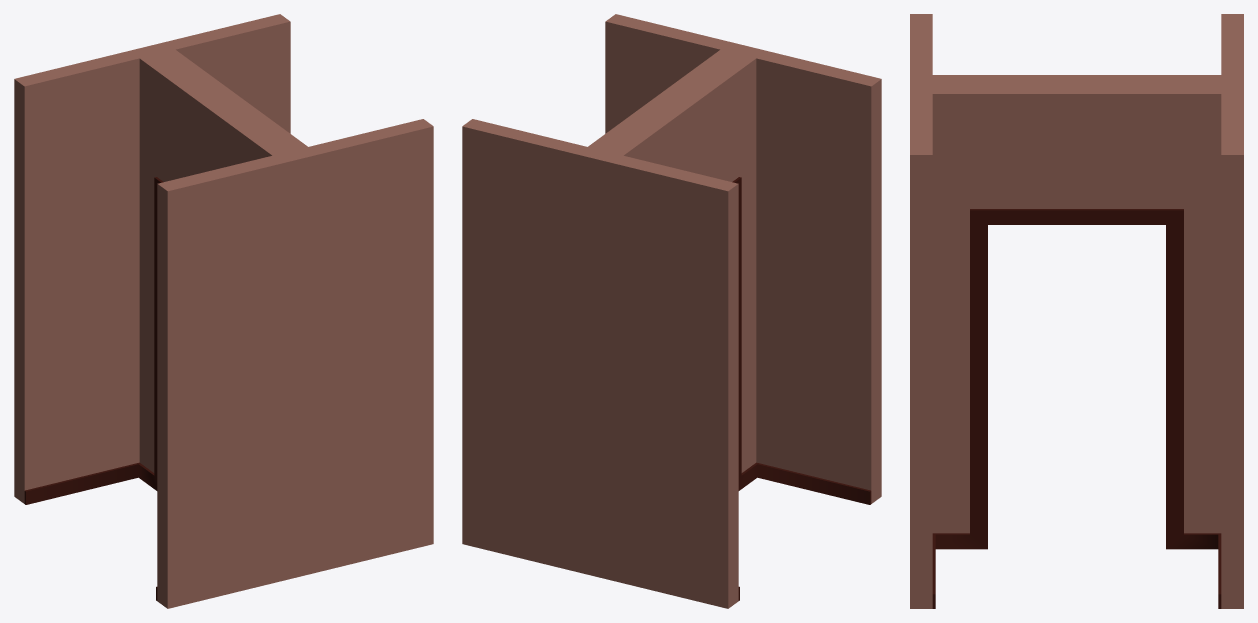
The model's file is T_Porte_04.fbx.
3 renders of one model, left to right at view 1: azimuth 30°, elevation 25°; view 2: azimuth 150°, elevation 25°; view 3: azimuth 270°, elevation 25°, orthographic. The views are drawn at different scales.
Parts seen in each view (by area): view 1: T_Porte_04; view 2: T_Porte_04; view 3: T_Porte_04.
Part boxes in pixels (<box>): T_Porte_04: <box>14,14,433,608</box>; T_Porte_04: <box>462,14,881,608</box>; T_Porte_04: <box>910,14,1243,608</box>.
Bounding box in the file's own units: 200 × 300 × 200.
